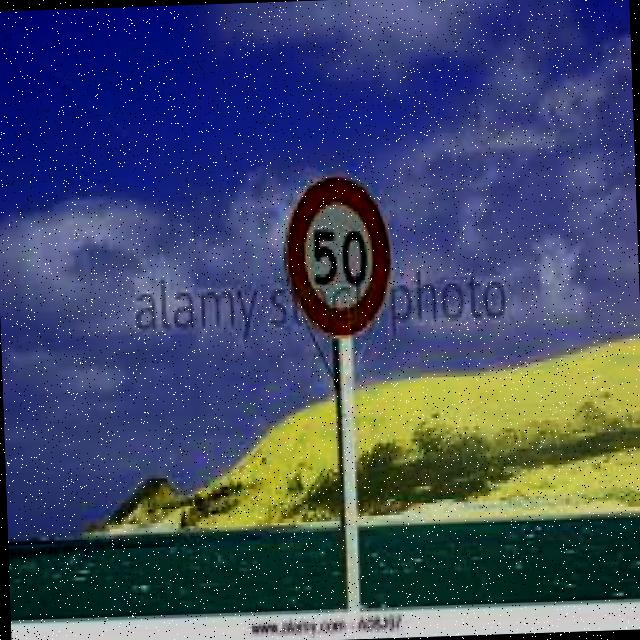Ograniczenie predkosci do 50: (280, 168, 400, 348)
